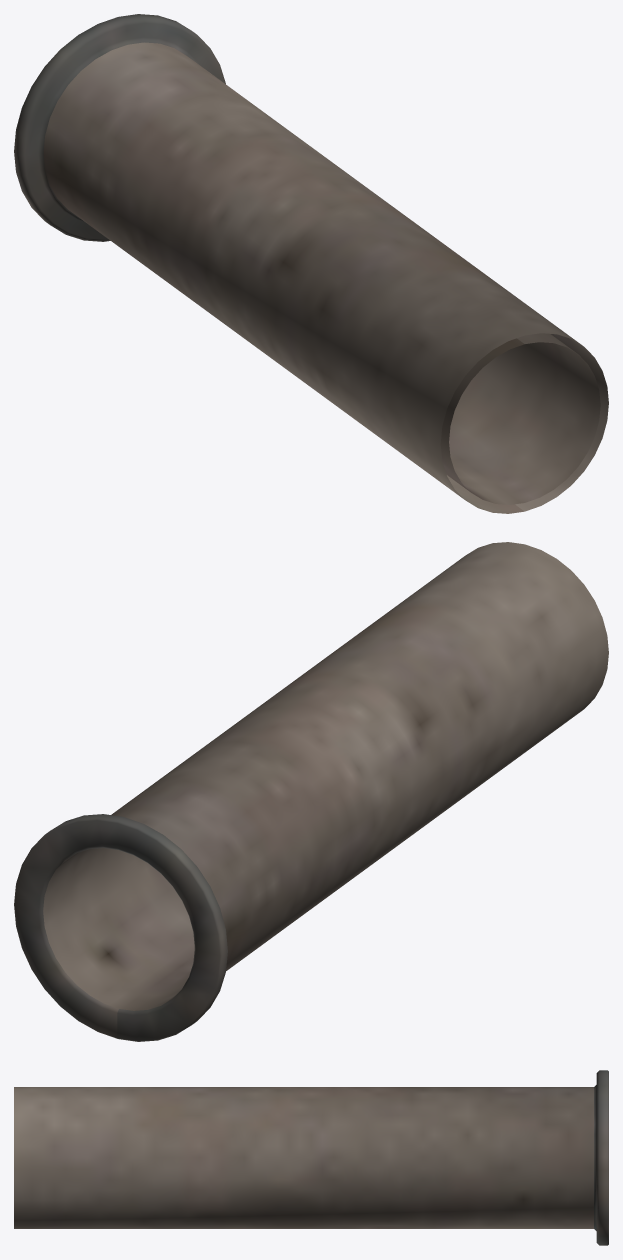
File: Pipe.fbx
3 renders of one model, top to bottom at view 1: azimuth 30°, elevation 25°; view 2: azimuth 150°, elevation 25°; view 3: azimuth 270°, elevation 25°, orthographic. The views are drawn at different scales.
Parts seen in each view (by area): view 1: defaultMaterial.002; view 2: defaultMaterial.002; view 3: defaultMaterial.002.
Boxes of the visible parts, x1,y1,x2,y2 form: defaultMaterial.002: (14, 14, 608, 513); defaultMaterial.002: (14, 542, 608, 1041); defaultMaterial.002: (14, 1070, 608, 1245).
Size of the model in its own units: 29.6 by 29.6 by 100.
